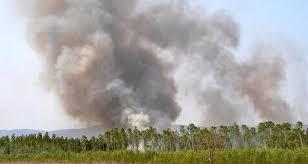yanwu: (13, 1, 307, 131)
